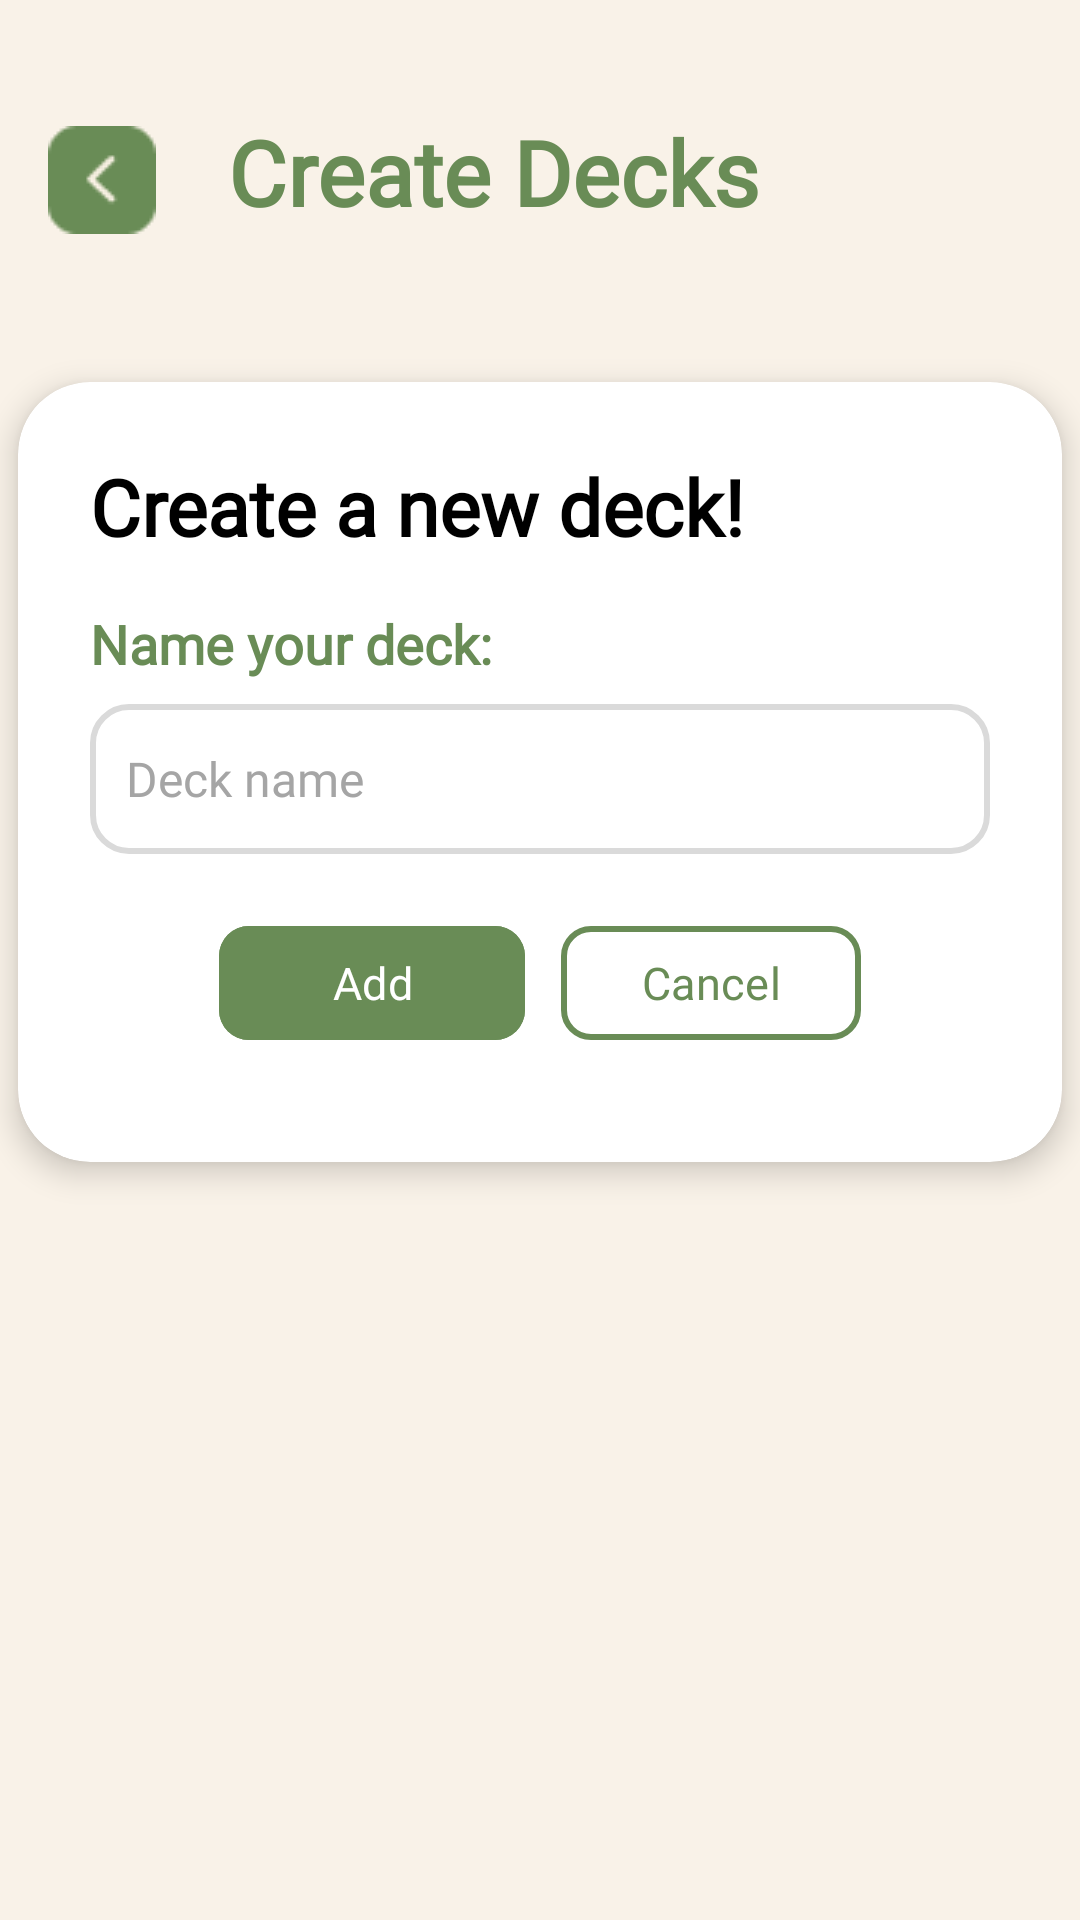

Where to tap for icons on this 1080px x 1920px app screen, as (x,y):
Back Button: (102,180)
